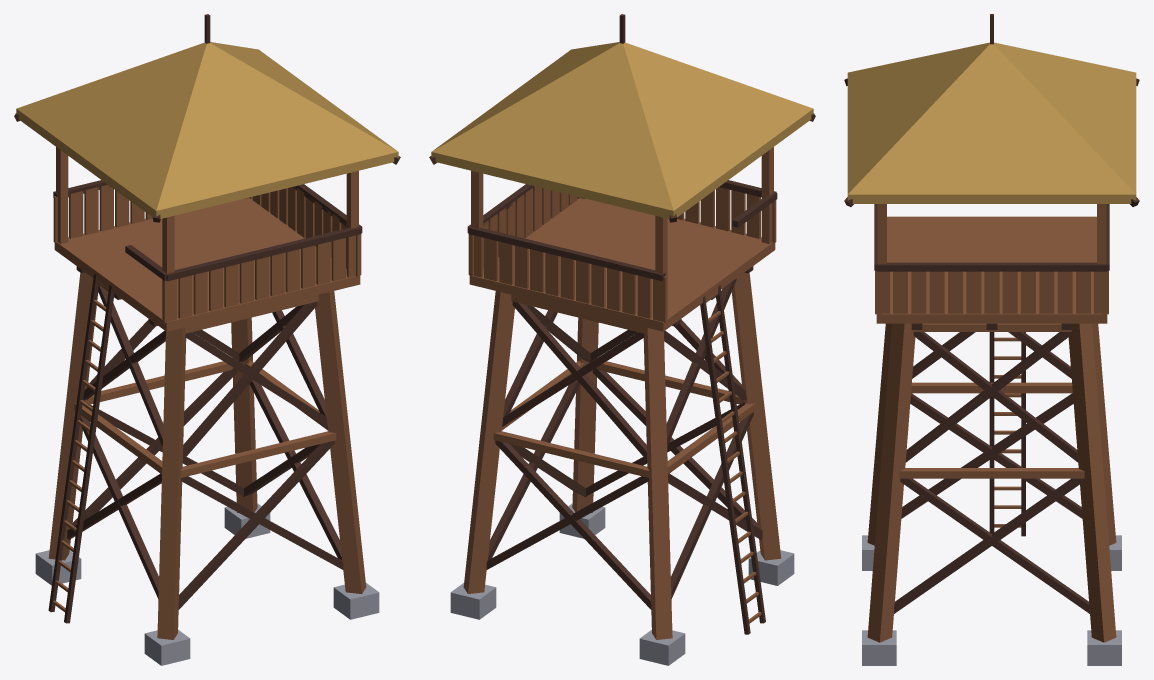
The model's file is watchtower.glb.
3 renders of one model, left to right at view 1: azimuth 30°, elevation 25°; view 2: azimuth 150°, elevation 25°; view 3: azimuth 270°, elevation 25°, orthographic. The views are drawn at different scales.
Visible parts, largest first — view 1: footing; view 2: footing; view 3: footing.
Boxes of the visible parts, bbox=[...] form: footing: bbox=[14, 14, 400, 665]; footing: bbox=[429, 14, 815, 665]; footing: bbox=[844, 14, 1139, 665].
Bounding box in the file's own units: 5.5 × 11.4 × 5.12.
